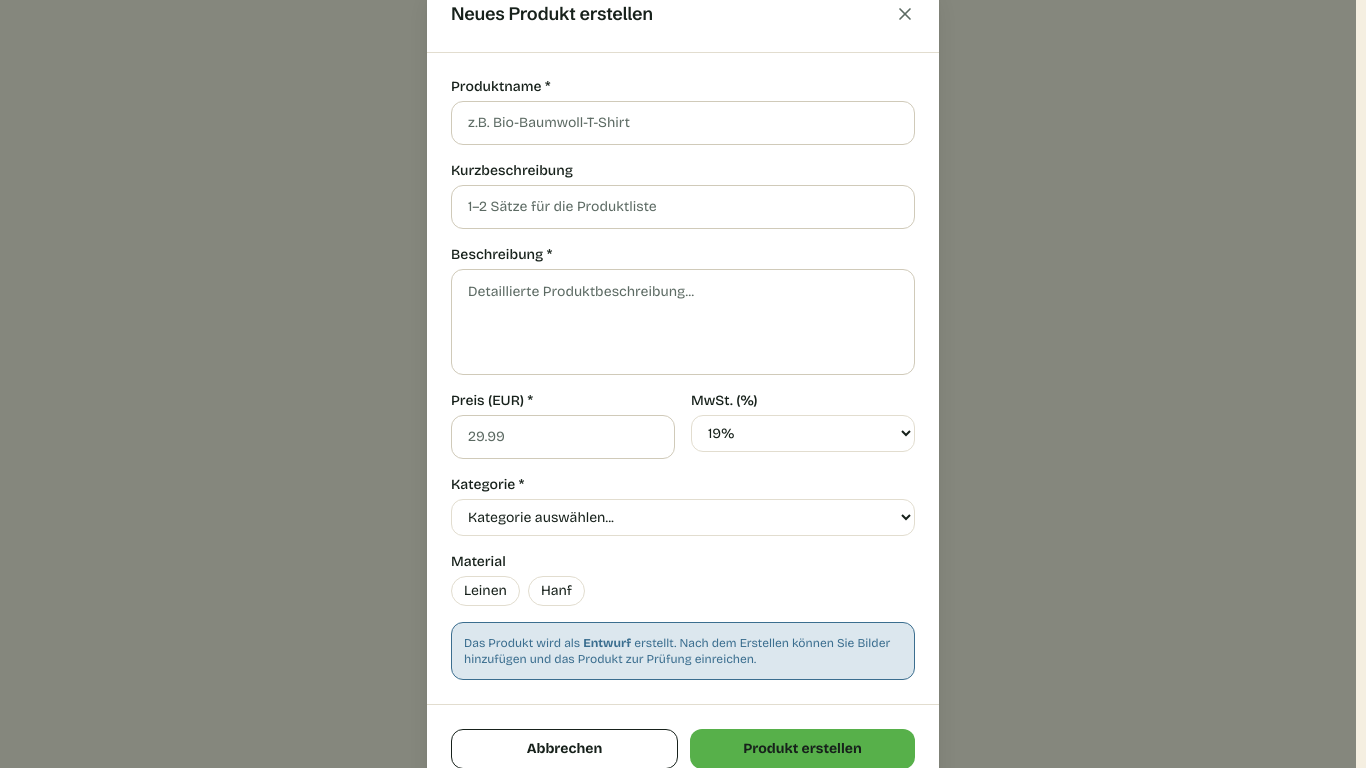
Test: ProductForm – Material › renders a chip per material and toggles selection on click
Click the button "Leinen" at (485, 590), box x1=451 y1=576 x2=520 y2=606
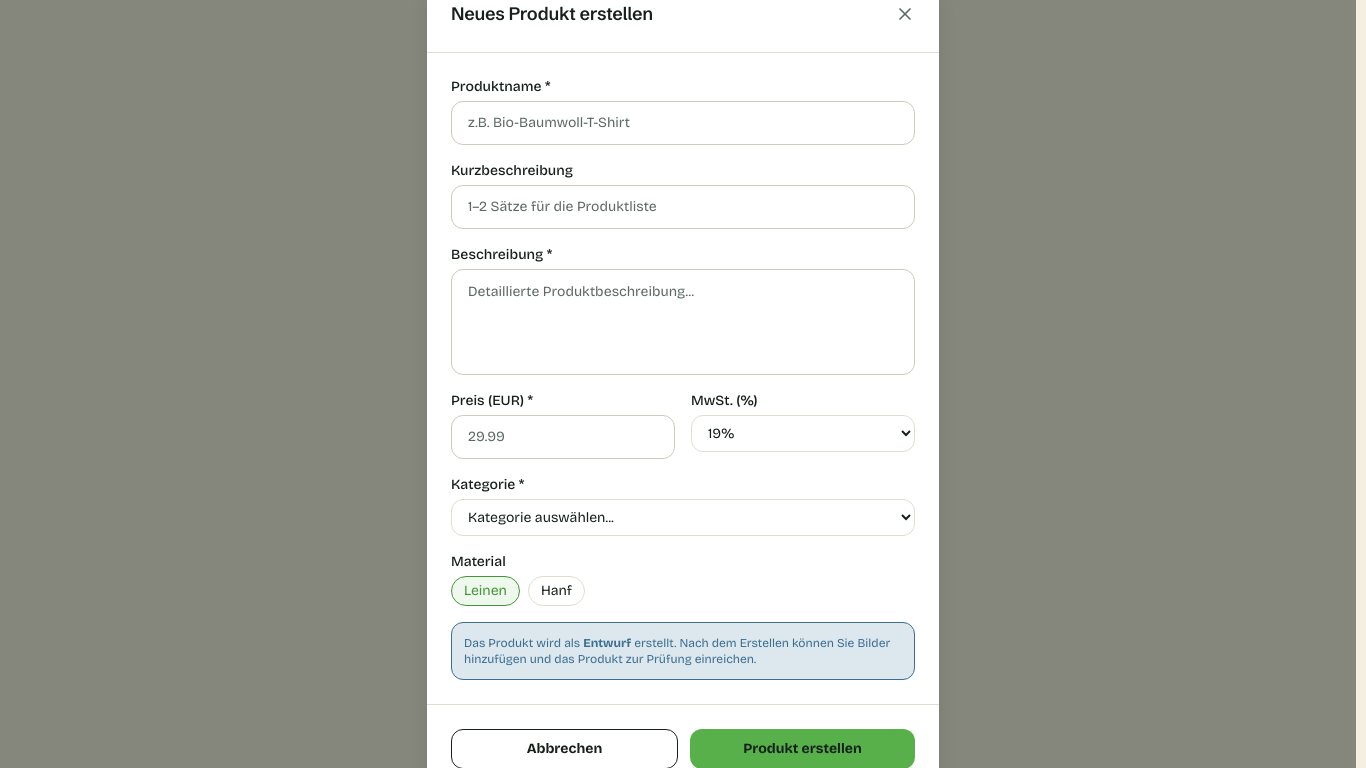
Check: the button "Leinen" is pressed, box x1=451 y1=576 x2=520 y2=606
